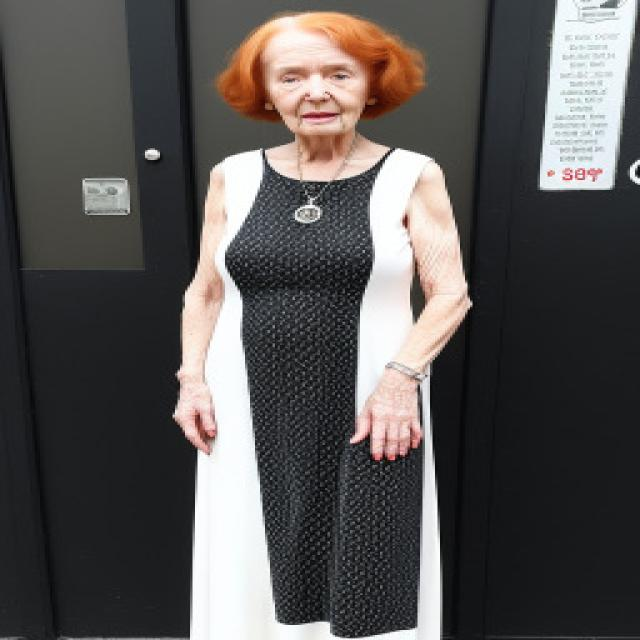Ai human 2: (150, 0, 502, 640)
